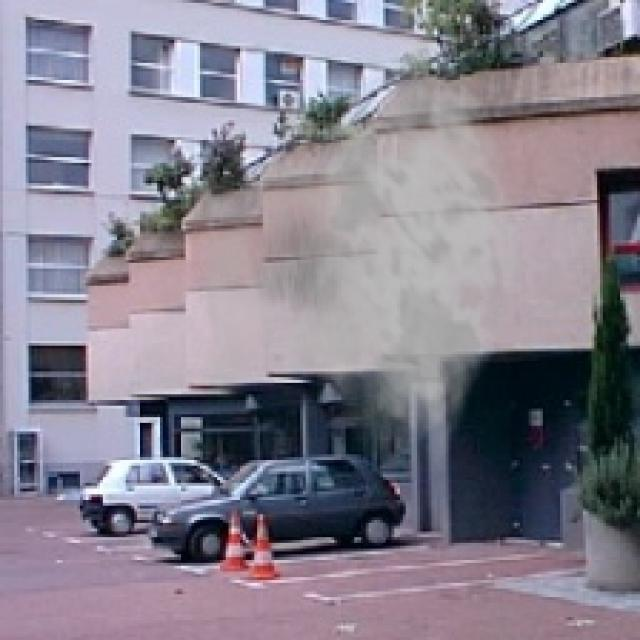smoke: (168, 57, 526, 472)
